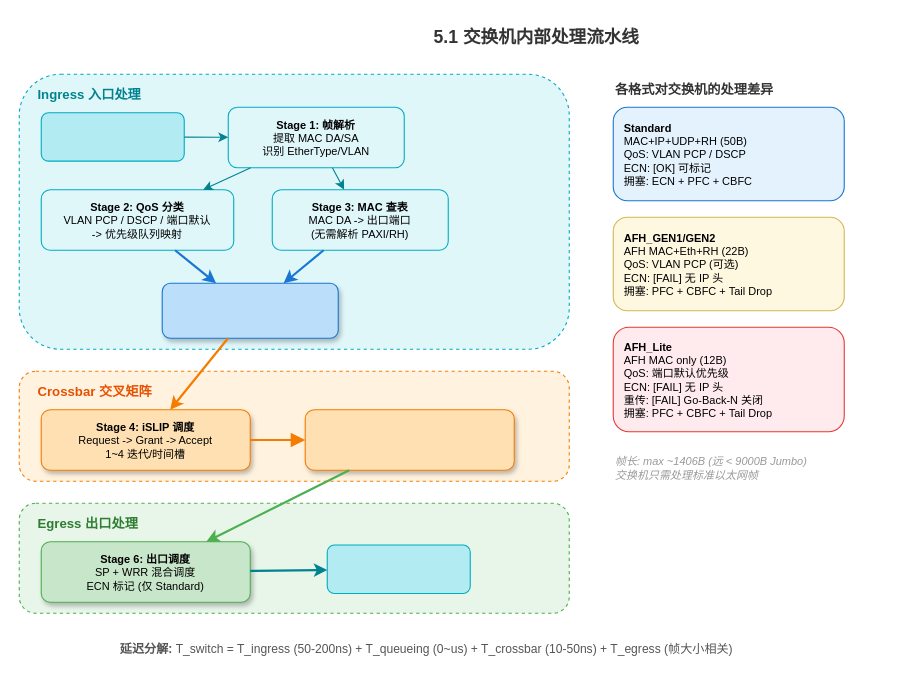
Some shapes in this 908 by 678 pixel diagram are drawn without their labels. The shapes that lost their labels are listed below. From the top down, each one's centre as x and y in pixels, then its label:
At point (112, 136): "PHY RX SerDes 接收".
At point (251, 312): "VOQ 入队 VOQ[in][out][pri] DT 算法检查".
At point (410, 441): "Stage 5: Crossbar 穿越 10~50 ns".
At point (398, 568): "PHY TX SerDes 发送".
